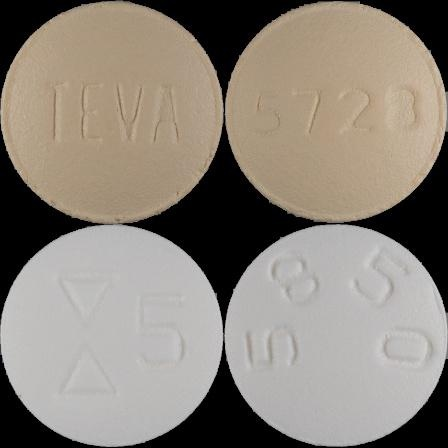69189-5728: (0, 0, 224, 224)
